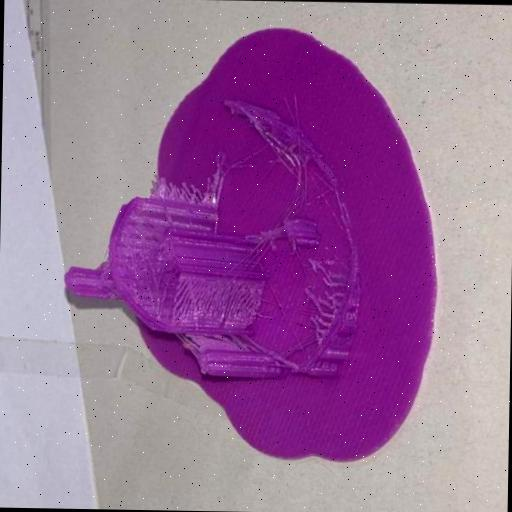stringing: (212, 282, 256, 323), (176, 274, 213, 322), (275, 144, 309, 178), (320, 266, 346, 299), (154, 181, 188, 204), (182, 185, 216, 207), (310, 309, 328, 341)
